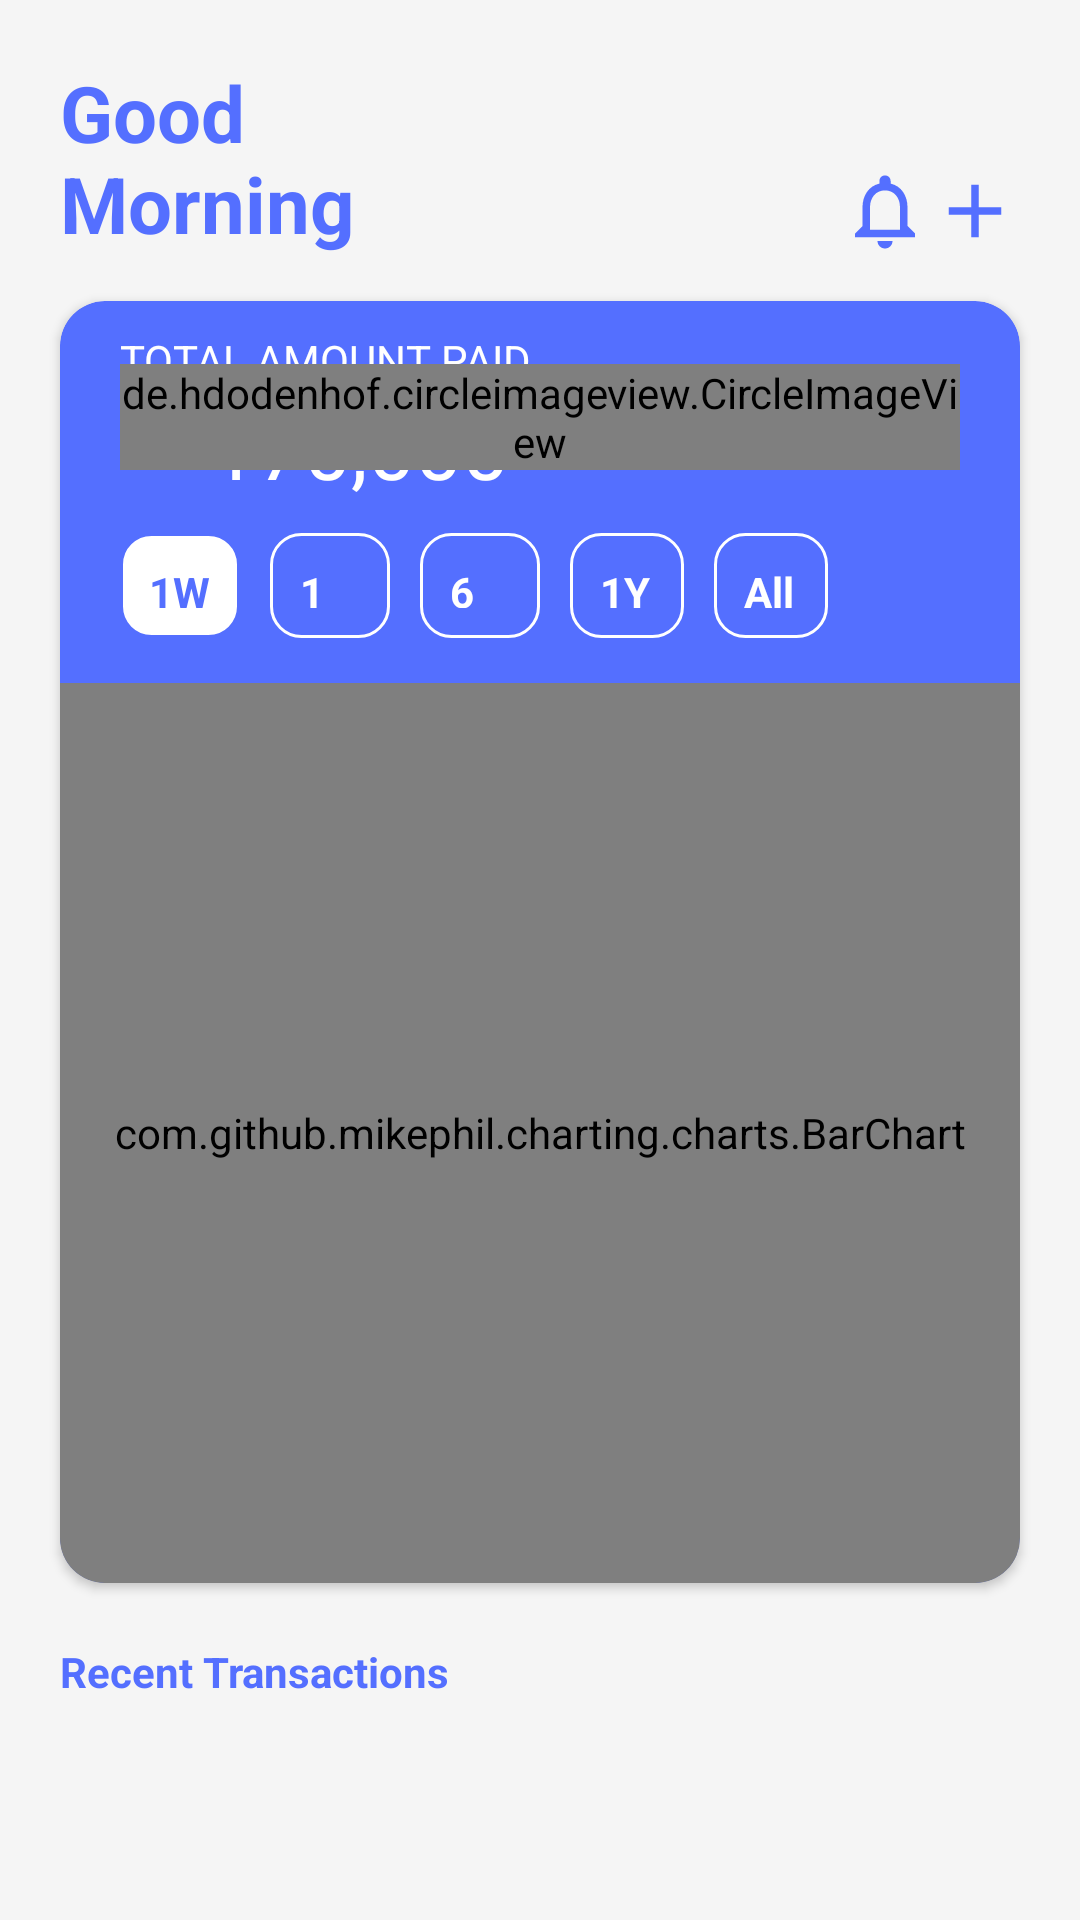

Point at icon controls on the screen. Image size 1080w x 1920h, points as (x=x, y=y).
add: (x=975, y=211)
notifications: (x=885, y=212)
